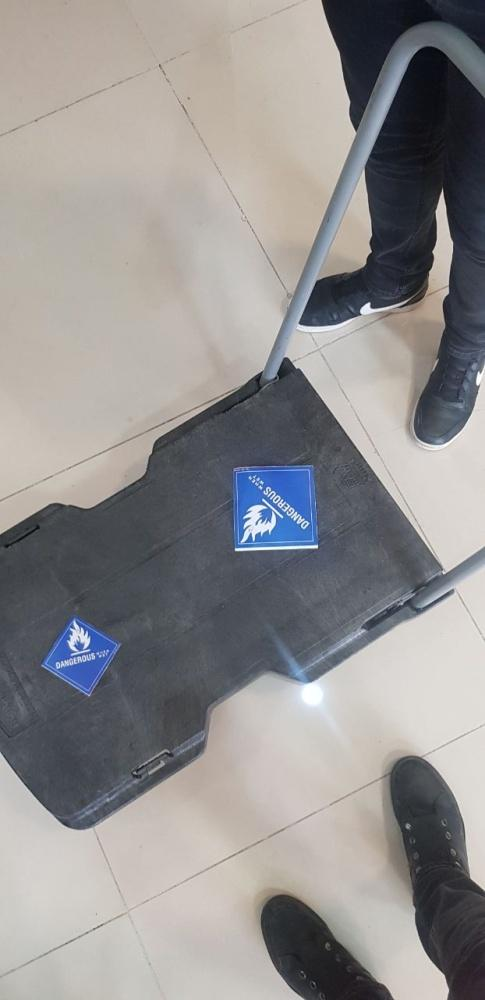dangerous-when-wet: (230, 467, 317, 552), (40, 615, 127, 698)
